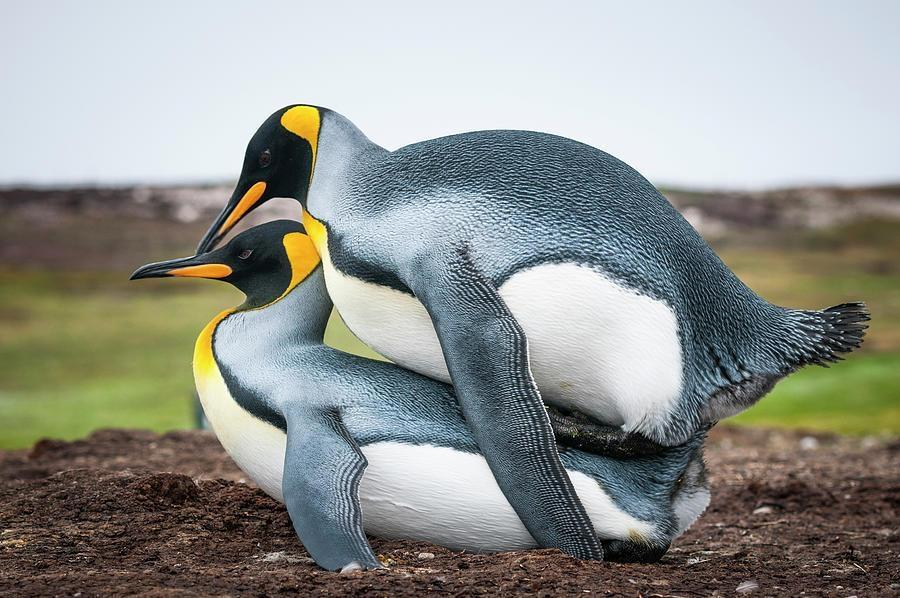Penguin: (197, 105, 868, 557), (133, 220, 536, 570), (561, 432, 710, 561)
